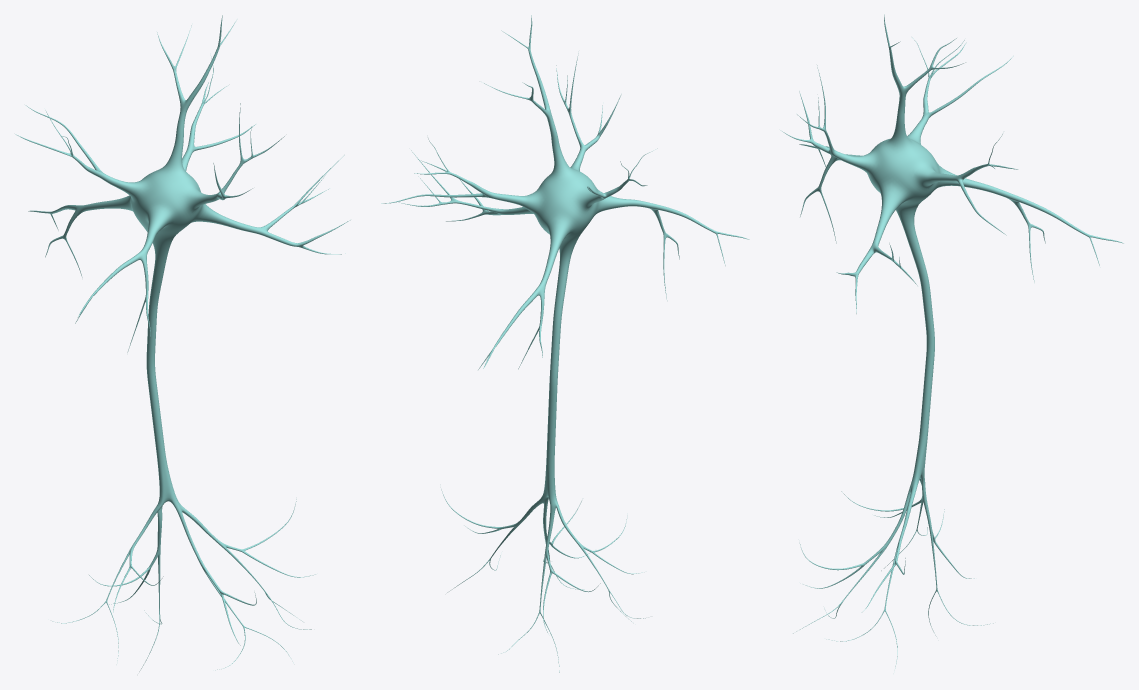
The model's file is multipolar_neuron.glb.
3 renders of one model, left to right at view 1: azimuth 30°, elevation 25°; view 2: azimuth 150°, elevation 25°; view 3: azimuth 270°, elevation 25°, orthographic. The views are drawn at different scales.
Visible parts, largest first — view 1: Neuron_0; view 2: Neuron_0; view 3: Neuron_0.
Part boxes in pixels (x1,y1,x2,y2): Neuron_0: (15,15,350,671); Neuron_0: (381,15,749,672); Neuron_0: (780,14,1123,668).
Size of the model in its own units: 0.3901 by 0.7884 by 0.3787.
